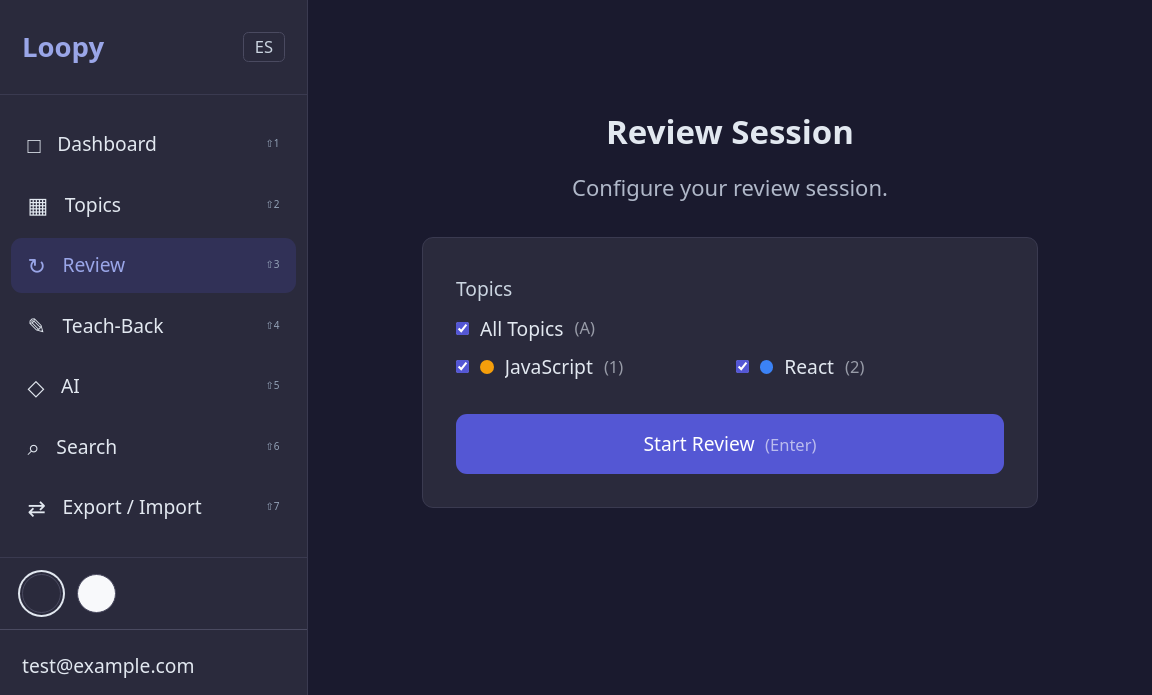
E2E-style Integration Tests › Review session flow -> rate cards -> session summary › completes a review session from start to summary
expect the heading "Review Session" is shown: met, box [606,110,854,154]
Note: Start the review
Click the button "Start Review (Enter)" at (730, 444), box [456,414,1004,474]
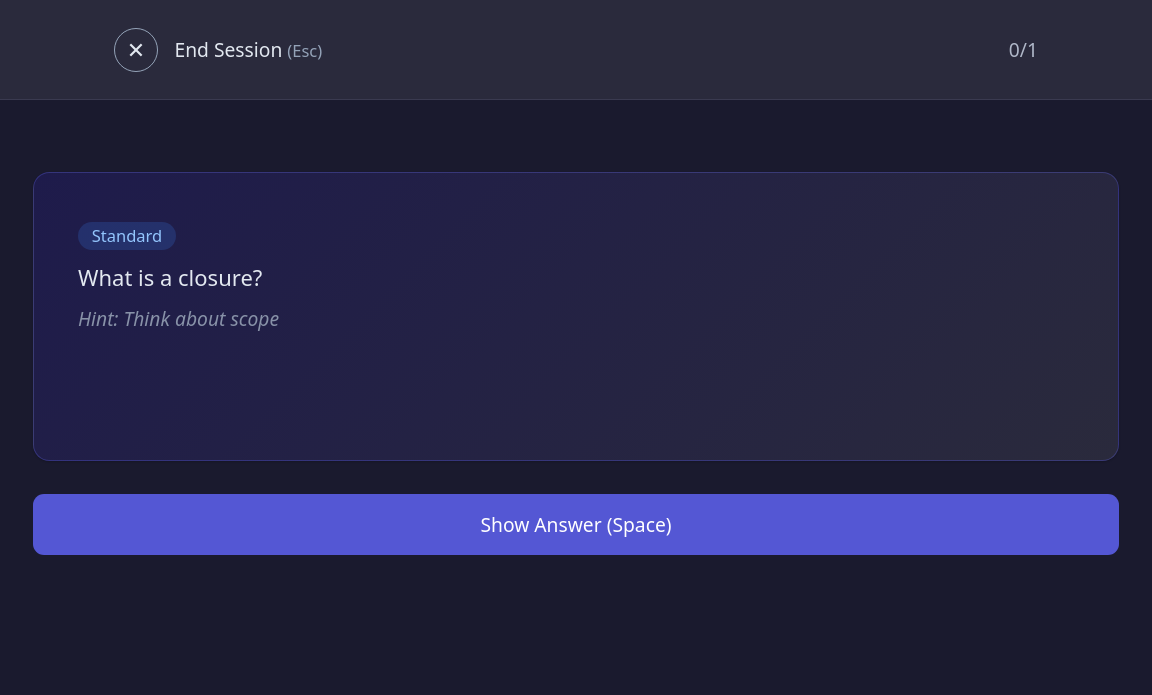
expect the text "What is a closure?" is shown: met, box [78,262,262,292]
Note: Click Show Answer
Click the button "Show Answer (Space)" at (576, 524), box [33,494,1119,554]
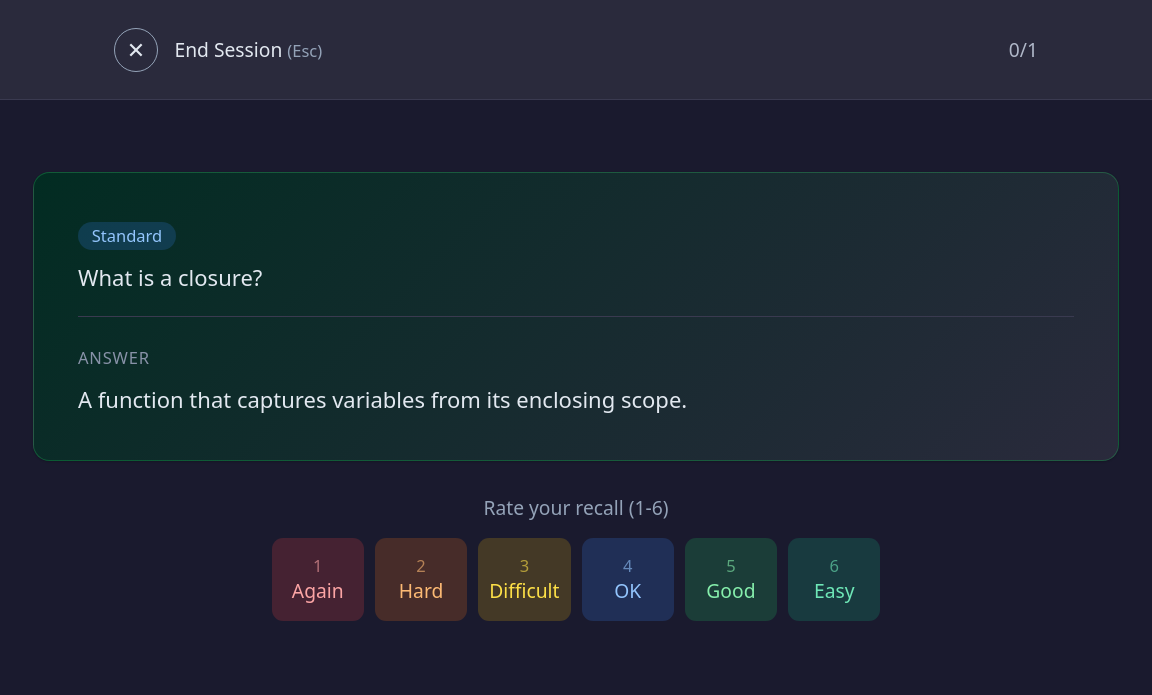
expect the text "Rate your recall (1-6)" is shown: met, box [484,494,669,521]
Note: Click "Good" rating
Click the button "5 Good" at (731, 579), box [685,538,777,620]
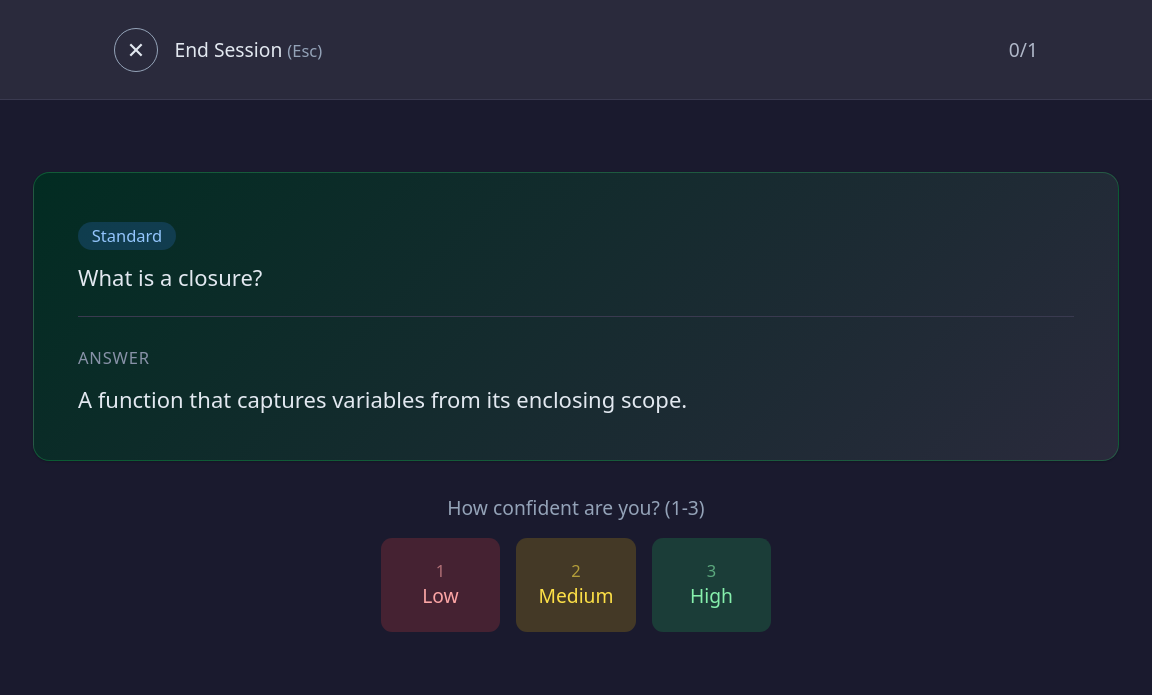
expect the text "How confident are you? (1-3)" is shown: met, box [447,494,705,521]
Note: Click "High" confidence
Click the button "3 High" at (712, 585), box [652,538,771,632]
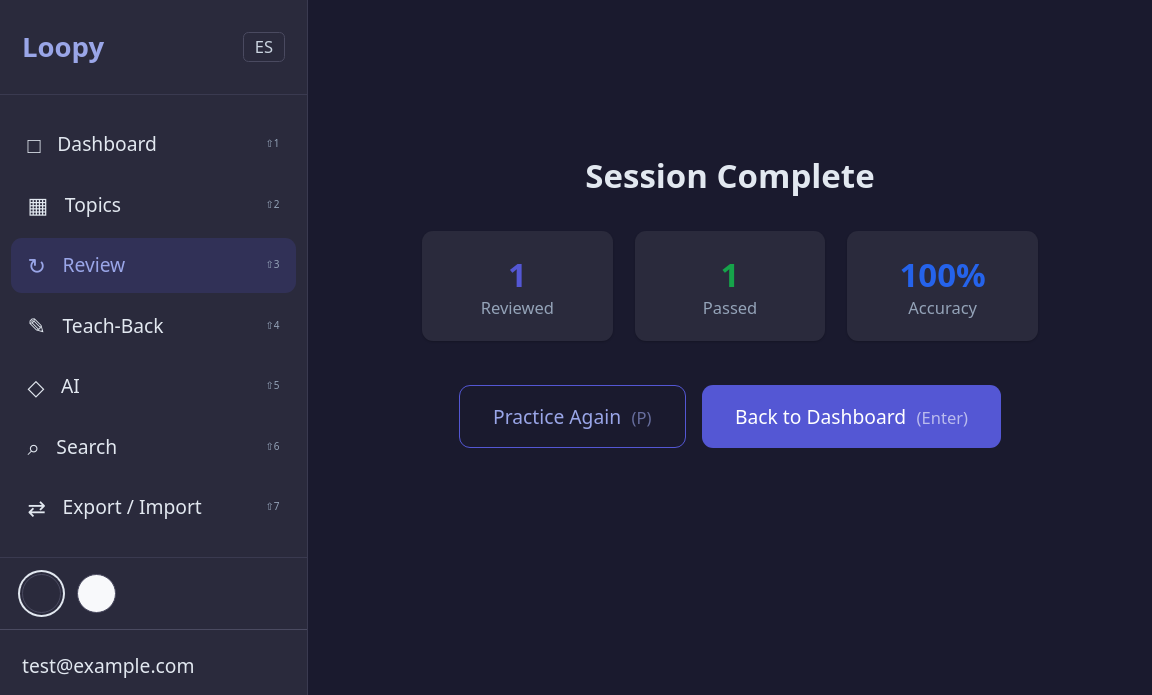
expect the heading "Session Complete" is shown: met, box [585,153,875,198]
